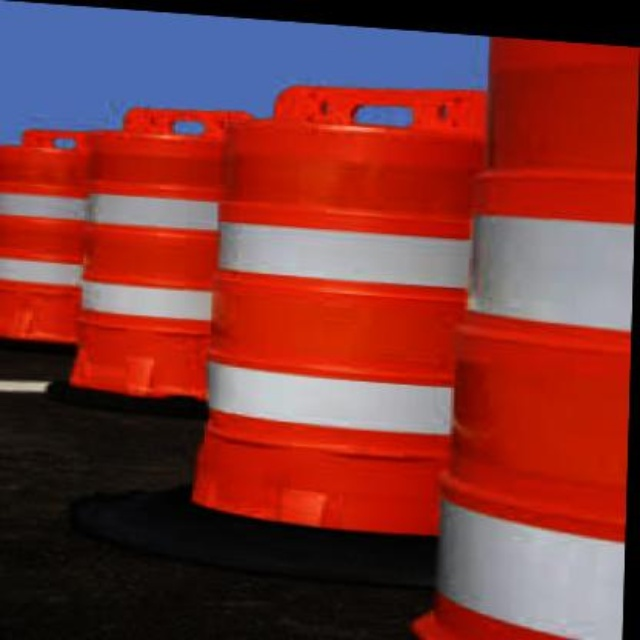obstacle: (180, 62, 485, 559)
